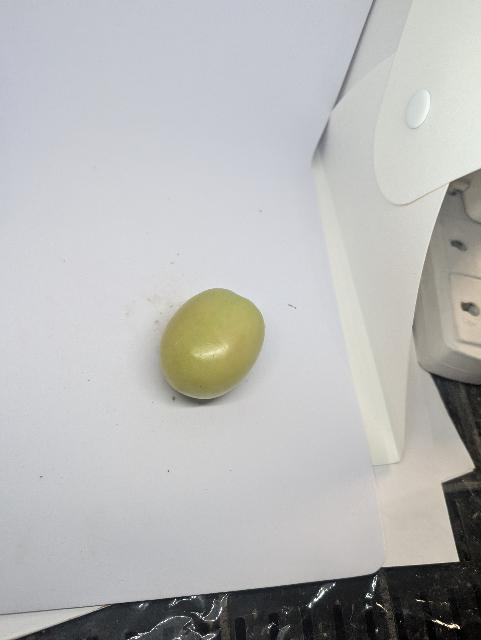green: (157, 285, 267, 403)
